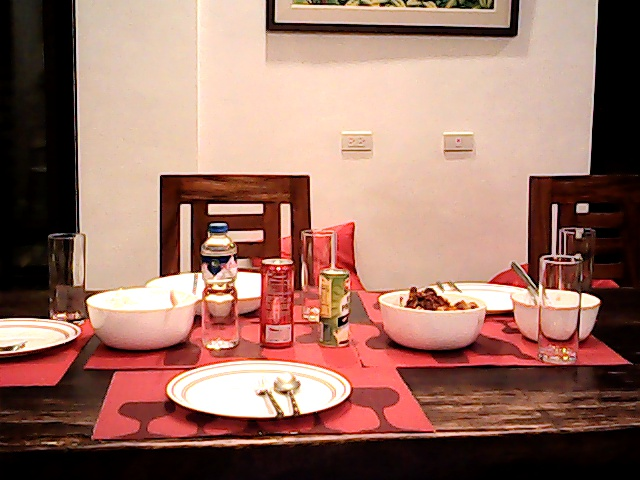Cola: (253, 249, 300, 351)
Pine Juice: (313, 263, 355, 347)
Summit Water: (196, 218, 243, 353)
